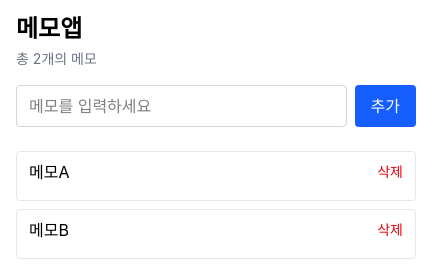
Scenario: App 한 번에 한 메모만 편집 › App should show the edited text of memo A when memo B's text is double-clicked while memo A is being edited
The image size is (433, 278).
Double-click the text "메모A" at (49, 172), box x1=29 y1=160 x2=70 y2=184
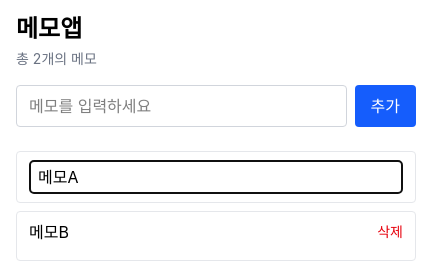
Replace the text in the field showing "메모A" with "고친A" at (216, 177), box x1=29 y1=160 x2=403 y2=194
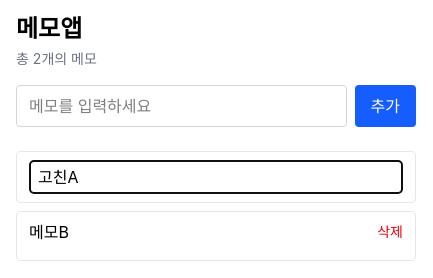
Double-click the text "메모B" at (49, 232), box x1=29 y1=220 x2=69 y2=244
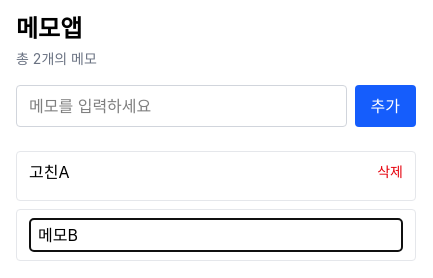
Check: the text "고친A" is shown, box x1=29 y1=160 x2=70 y2=184
